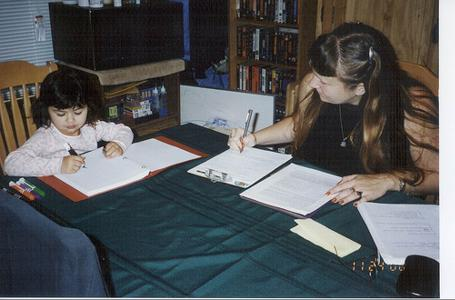person: (226, 23, 441, 207)
